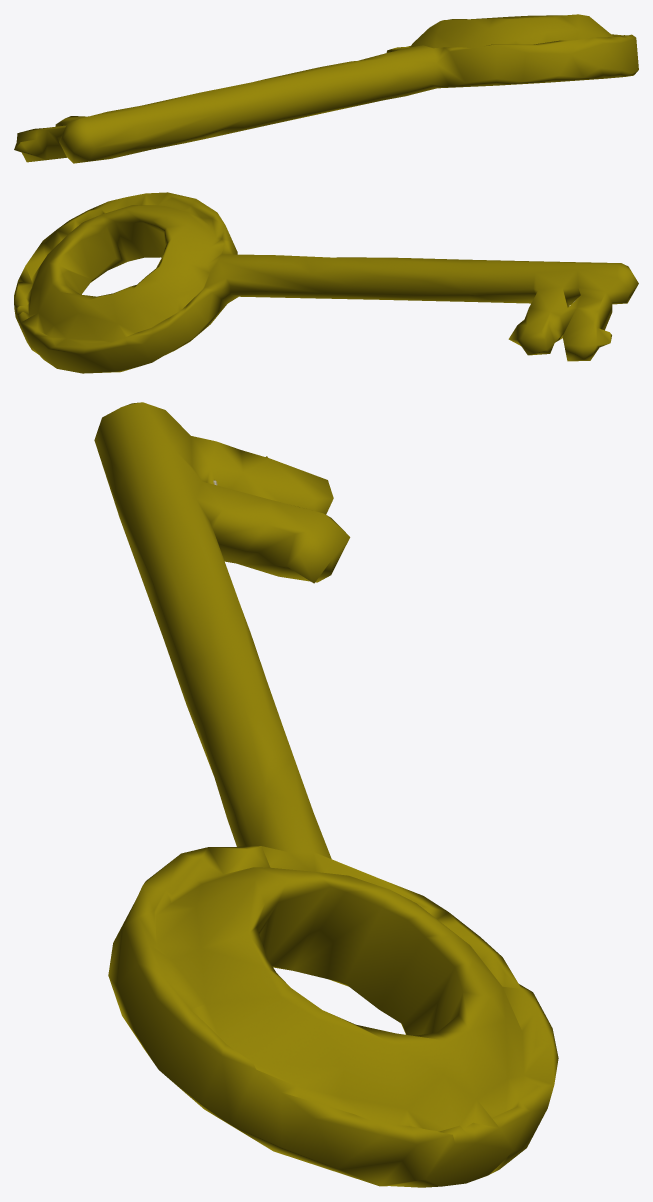
The model's file is Key 1_LOD1.fbx.
The picture shows the model from 3 angles, top to bottom: view 1: azimuth 30°, elevation 25°; view 2: azimuth 150°, elevation 25°; view 3: azimuth 270°, elevation 25°; orthographic projection. The views are drawn at different scales.
Parts seen in each view (by area): view 1: Layer_1; view 2: Layer_1; view 3: Layer_1.
Boxes of the visible parts, x1,y1,x2,y2 form: Layer_1: (14, 14, 638, 163); Layer_1: (14, 192, 638, 373); Layer_1: (94, 402, 558, 1187).
Bounding box in the file's own units: 0.3118 × 0.1099 × 0.077.
1 material, 1 textured.
